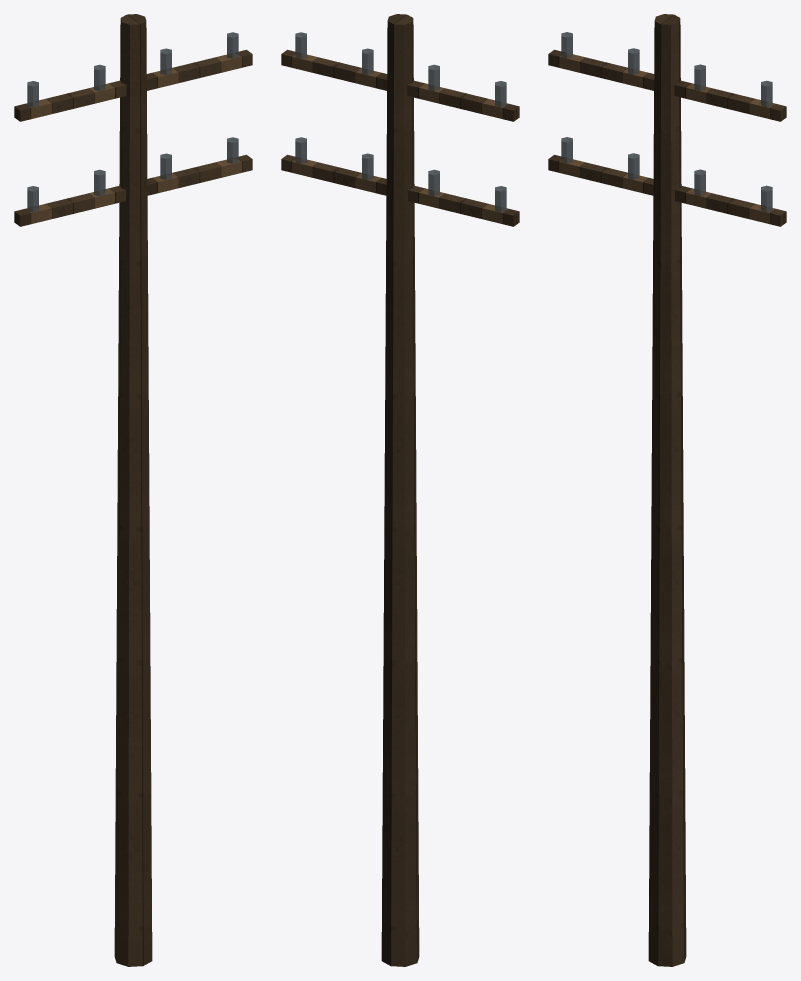
Rendered from B_pole.glb.
3 renders of one model, left to right at view 1: azimuth 30°, elevation 25°; view 2: azimuth 150°, elevation 25°; view 3: azimuth 330°, elevation 25°, orthographic.
Visible parts, largest first — view 1: B_pole; view 2: B_pole; view 3: B_pole.
Part boxes in pixels (left/top/right/bottom): B_pole: left=14, top=14, right=252, bottom=966; B_pole: left=281, top=14, right=519, bottom=966; B_pole: left=548, top=14, right=786, bottom=966.
Size of the model in its own units: 2.2 by 8.5 by 0.32.
2 materials, 1 textured.
